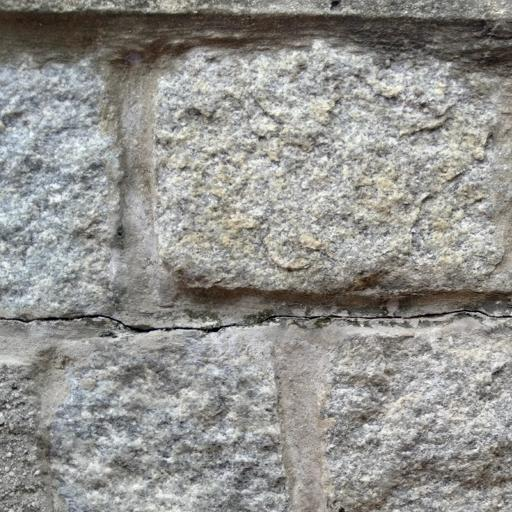minor_crack: (0, 283, 512, 341)
